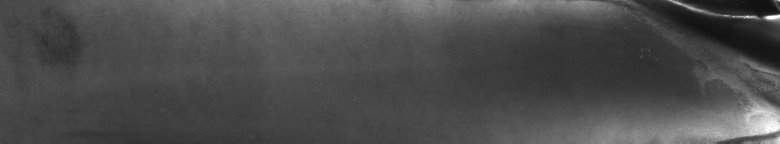ke: (673, 4, 776, 136)
